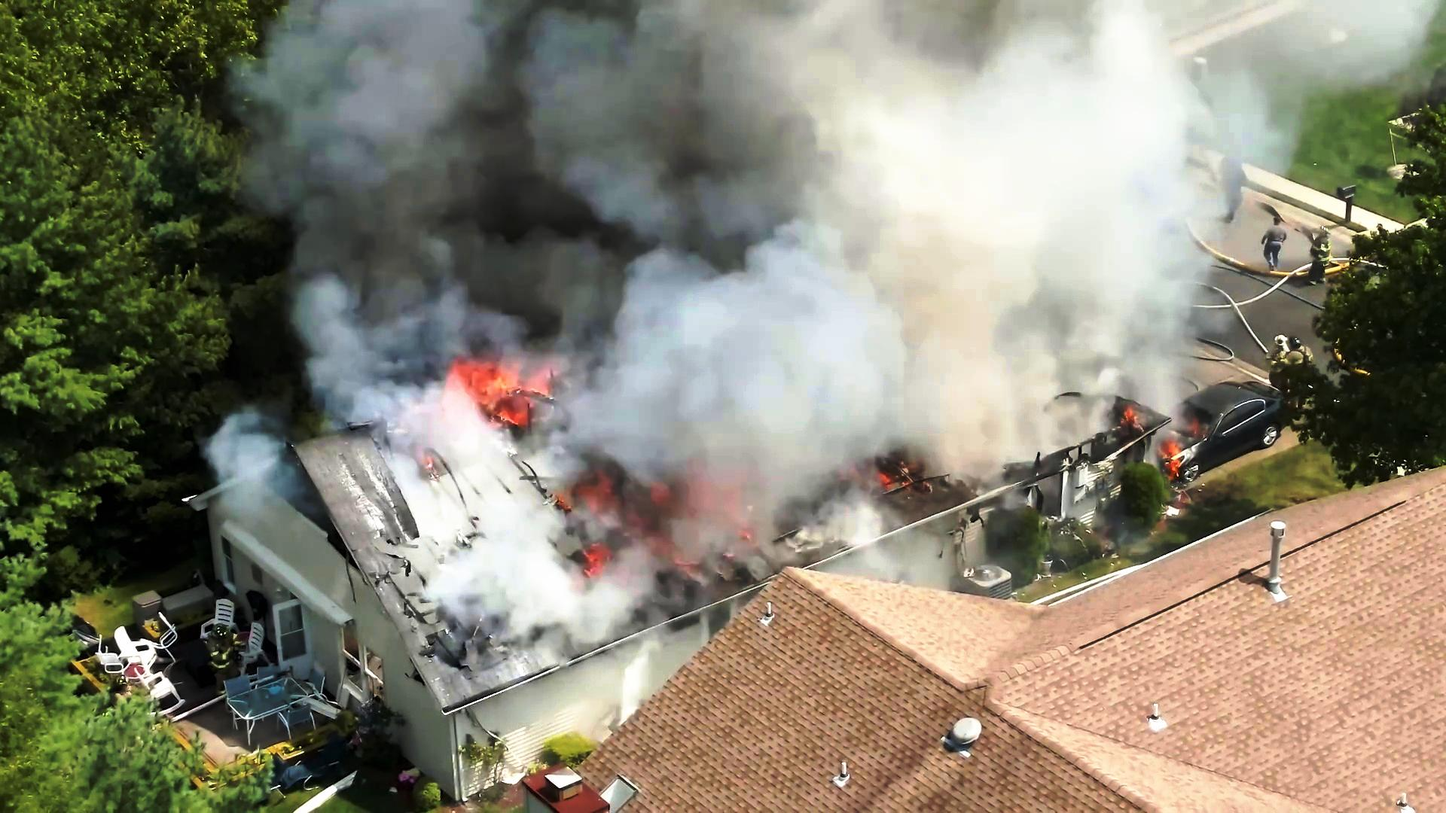fire: (439, 356, 573, 444)
smoke: (826, 21, 1202, 417), (271, 0, 479, 384), (501, 0, 816, 238), (627, 269, 880, 461)
